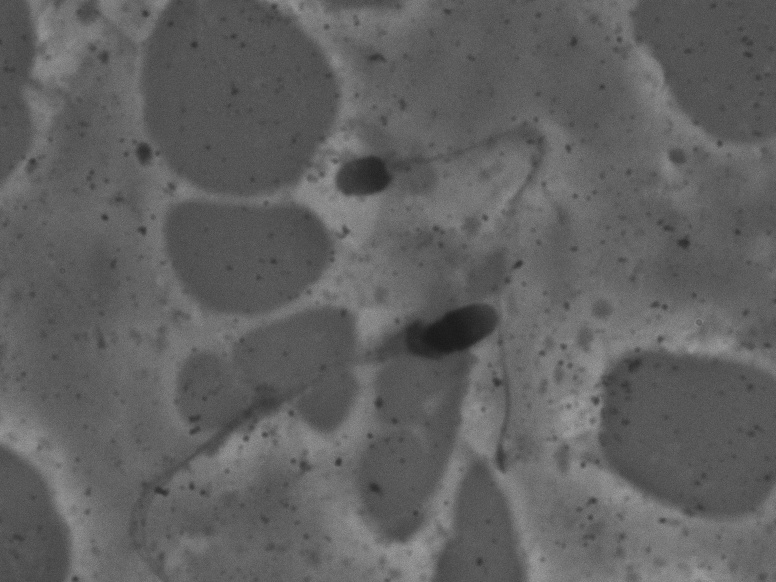Abnormal: (122, 291, 501, 566)
Normal: (327, 94, 558, 485)
